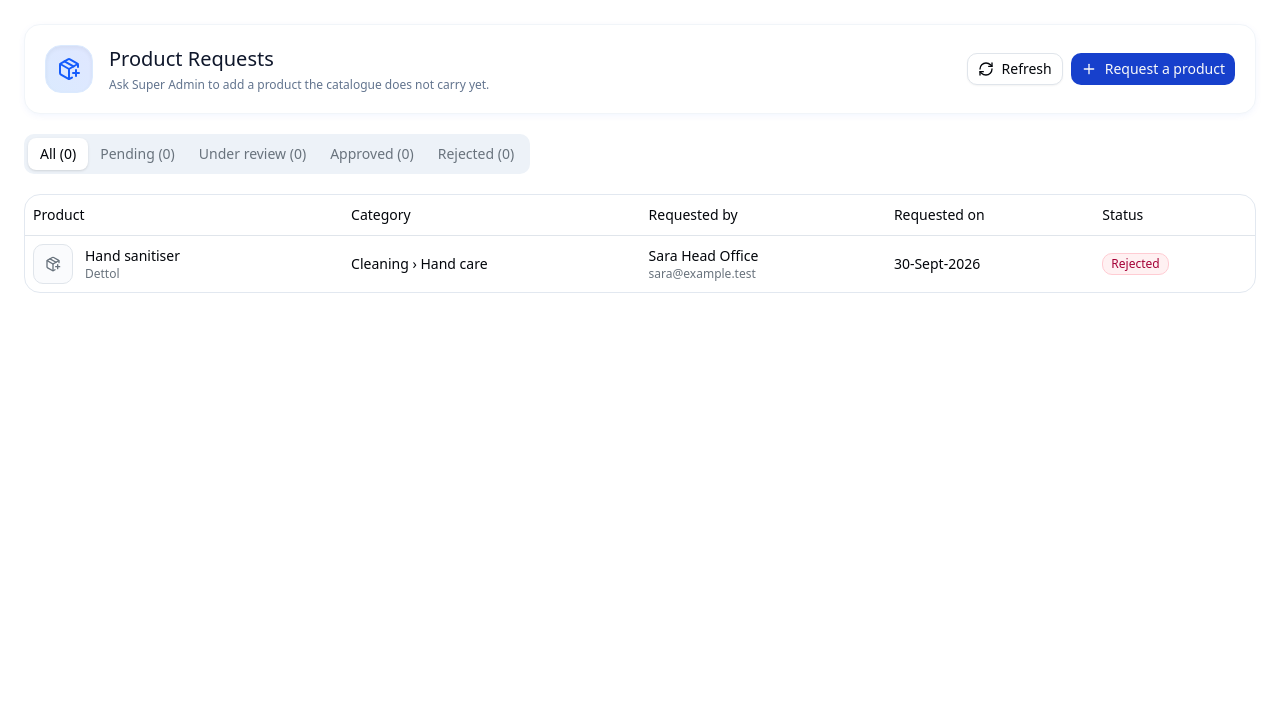
Test case: ProductRequestsView for Head Office › shows the outcome and Super Admin's note on a decided request
The image size is (1280, 720).
What coordinates should you click on to do the following:
click the row named "Open request for Hand sanitiser"
I would click on:
 (53, 264)
Its box is [25, 235, 1255, 292].
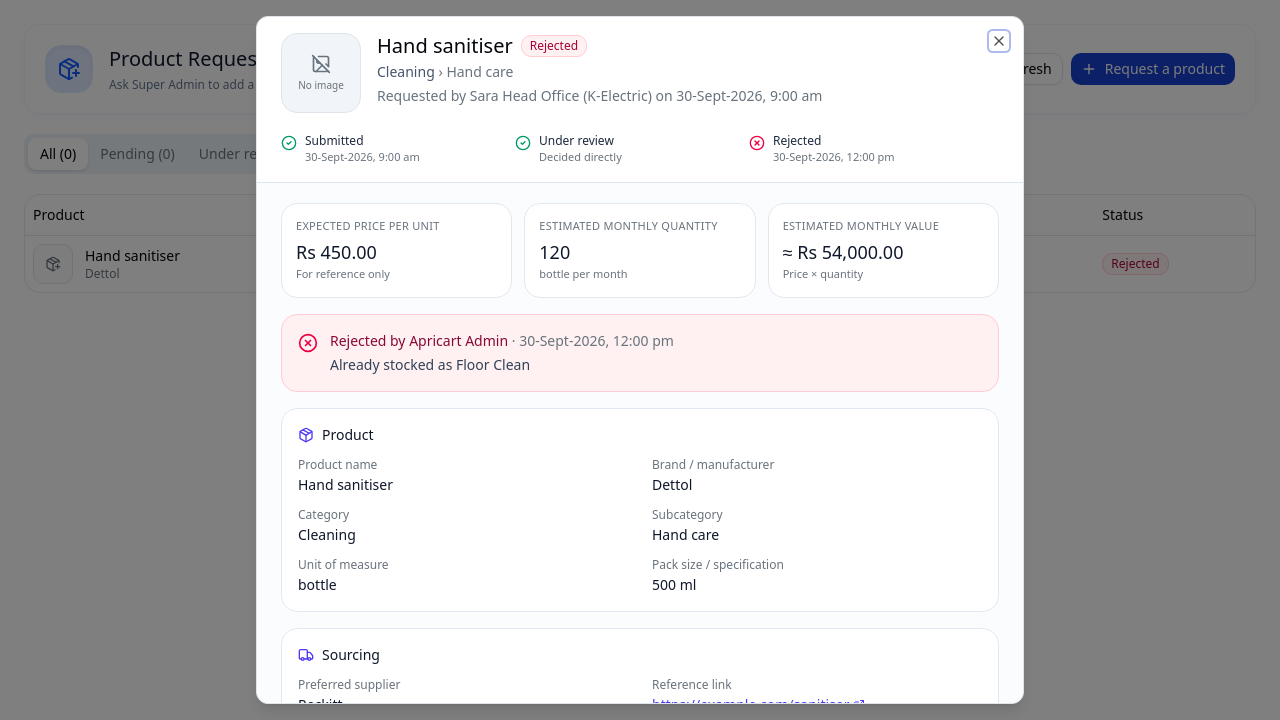
Now the text "Already stocked as Floor Clean" is shown, box [330, 354, 530, 374]
Now the text "Rejected by" is shown, box [330, 330, 406, 350]
